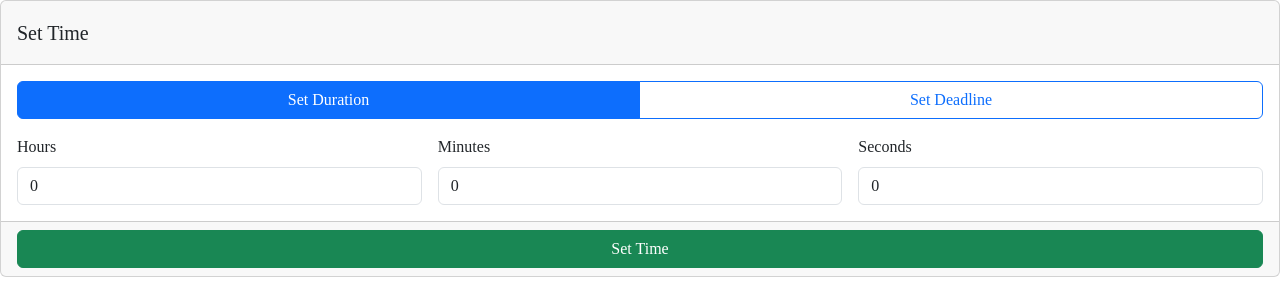
Test: TimeSetup Input Format Consistency Tests › switching between duration and deadline modes preserves settings
The width and height of the screenshot is (1280, 294).
Replace the text in the number field labelled "Hours" with "1" at (219, 186), box [17,167,422,205]
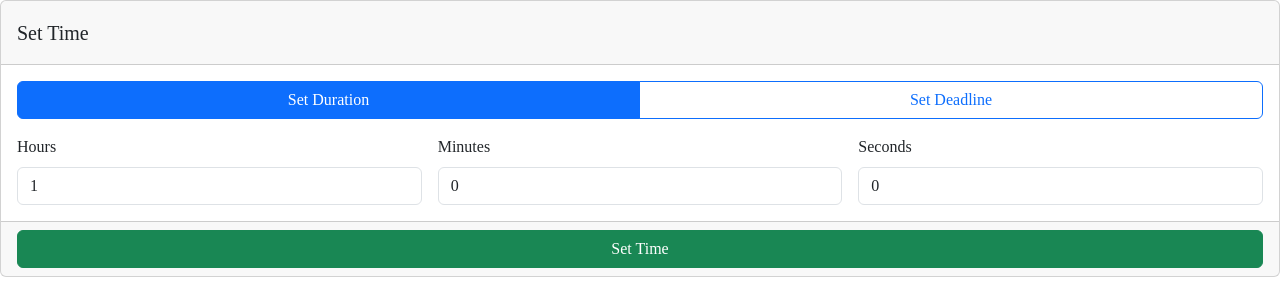
Replace the text in the number field labelled "Minutes" with "30" at (640, 186), box [438,167,842,205]
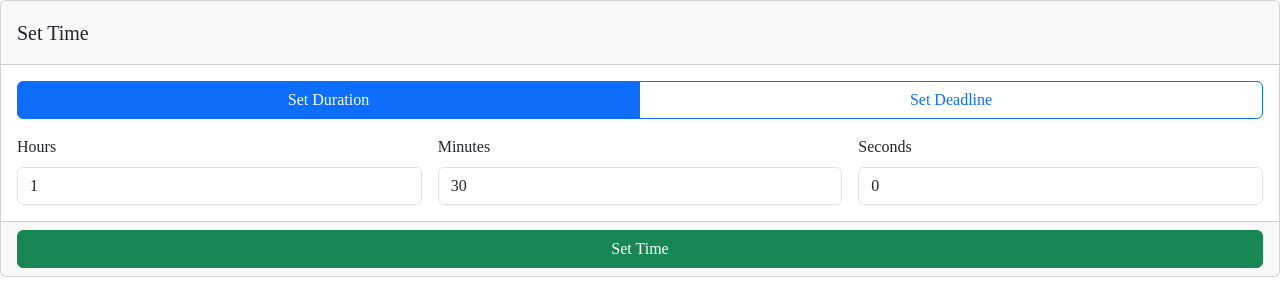
// Find and click the "Set Deadline" button to switch modes
Click the button "Set Deadline" at (951, 100), box [639,81,1263,119]
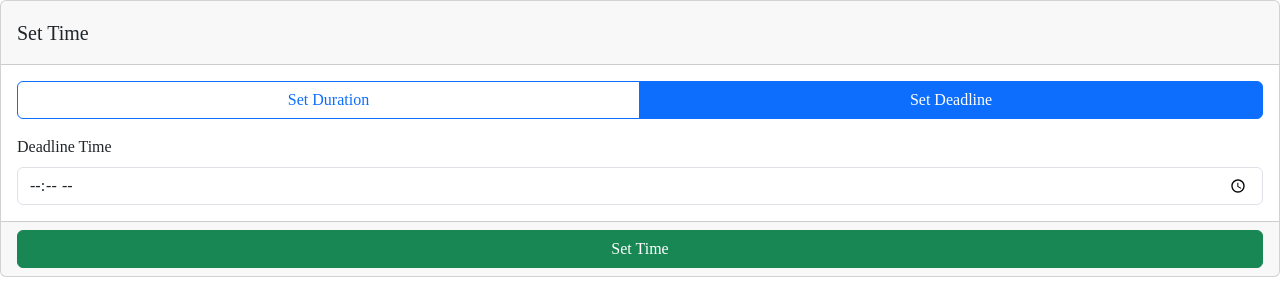
// Switch back to duration mode
Click the button "Set Duration" at (329, 100), box [17,81,640,119]
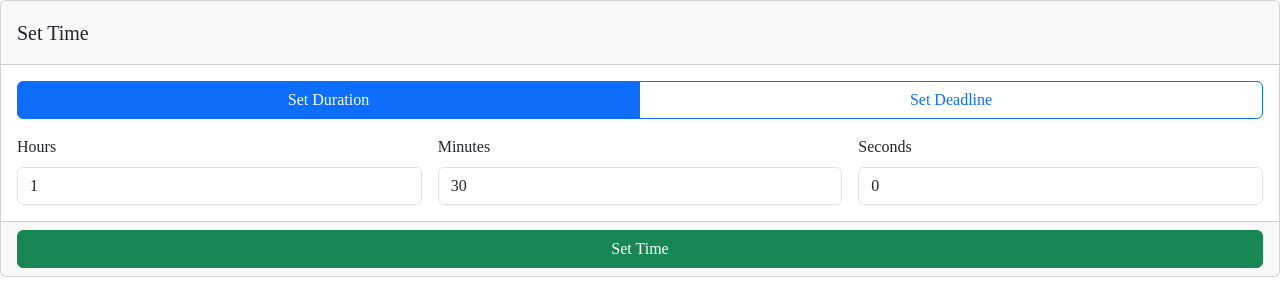
Now the number field labelled "Hours" holds "1", box [17,167,422,205]
Now the number field labelled "Minutes" holds "30", box [438,167,842,205]
